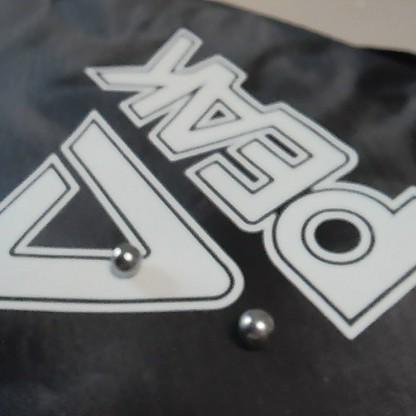ironball: (240, 307, 272, 345), (111, 242, 139, 275)
